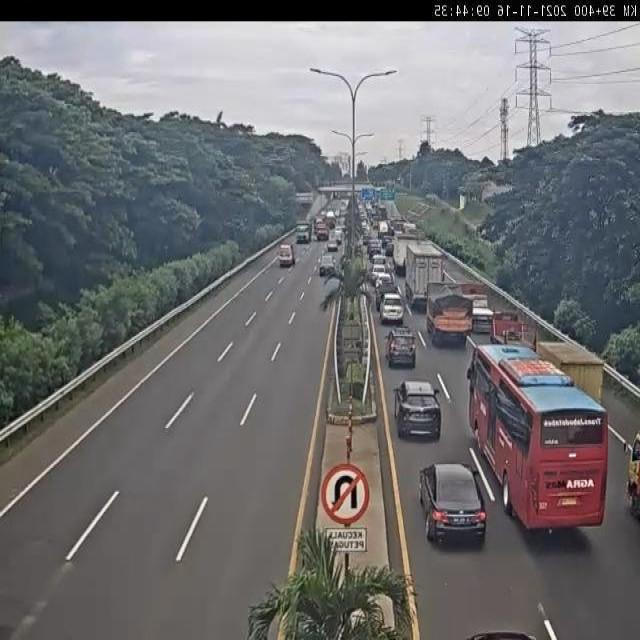Bus: (466, 342, 611, 534)
Car: (418, 462, 487, 546), (393, 379, 441, 439), (385, 328, 417, 368), (378, 294, 404, 326), (318, 253, 337, 276), (371, 262, 387, 283), (374, 272, 394, 287), (327, 237, 338, 252), (383, 235, 393, 249), (385, 242, 394, 256)
Truck: (534, 337, 606, 405), (424, 279, 474, 348), (404, 242, 447, 306), (487, 309, 537, 352), (460, 278, 495, 332), (391, 233, 421, 275), (277, 241, 297, 268), (295, 220, 312, 244), (316, 222, 330, 242), (377, 219, 390, 238), (325, 209, 336, 230)
